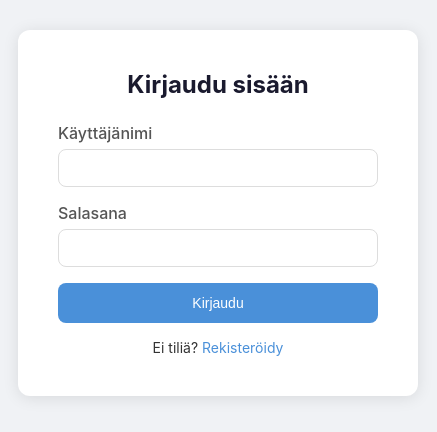
Test case: Login › näyttää yleisen virheen kun palvelin ei vastaa
This screenshot has width=437, height=432.
In the field: (218, 168) 58,149 -> 378,187, type "test"
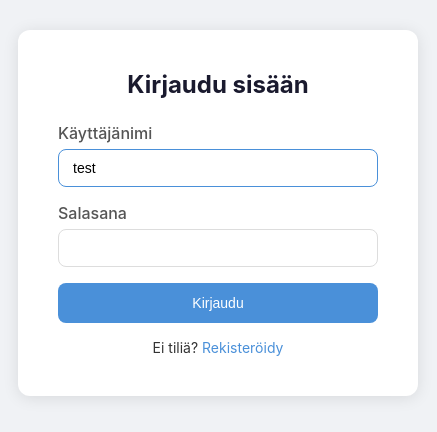
In the password field: (218, 248) 58,229 -> 378,267, type "test"
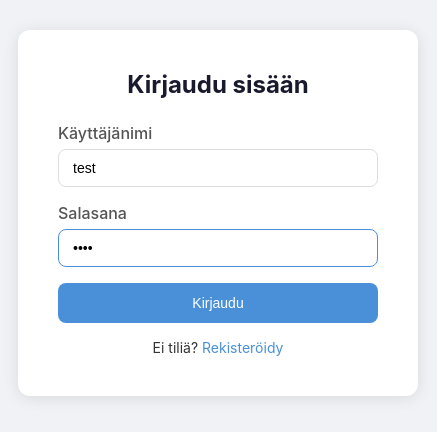
Click the button "Kirjaudu": (218, 303) 58,283 -> 378,323
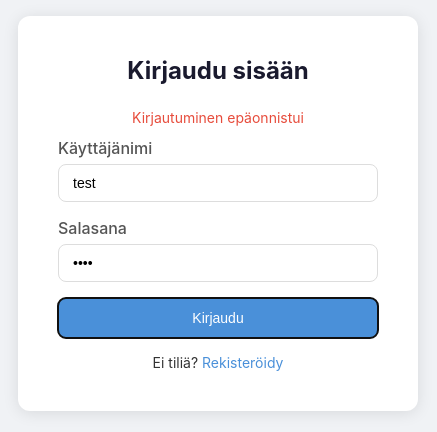
Expected: the text "Kirjautuminen epäonnistui" is shown, 132,108 -> 304,126
